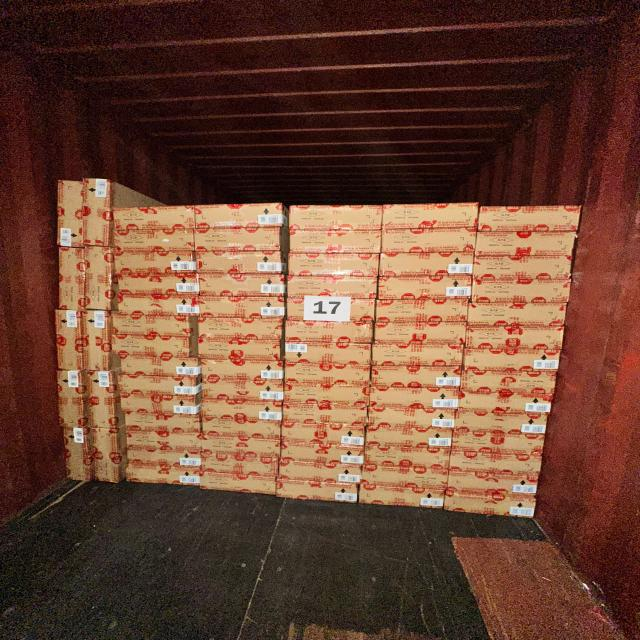Carton: (472, 298, 572, 328), (476, 205, 582, 232), (473, 230, 577, 257), (470, 278, 576, 304), (443, 490, 538, 519), (471, 255, 573, 281), (380, 204, 480, 230), (462, 347, 562, 373), (283, 340, 375, 368), (284, 296, 376, 324), (463, 326, 566, 351), (379, 228, 478, 254), (378, 251, 473, 278), (451, 429, 546, 456), (459, 368, 557, 394), (448, 450, 542, 477), (376, 296, 469, 323), (288, 228, 384, 254), (192, 202, 284, 229), (287, 252, 378, 279), (378, 275, 472, 301), (286, 274, 380, 300), (446, 470, 540, 496), (362, 464, 449, 492), (194, 225, 283, 252), (284, 319, 376, 345), (454, 410, 549, 435), (358, 483, 445, 510), (194, 250, 284, 276), (287, 205, 384, 229), (457, 391, 554, 415), (197, 294, 286, 320), (197, 272, 286, 298), (284, 382, 370, 408), (112, 205, 197, 231), (199, 397, 284, 423), (82, 177, 113, 248), (196, 316, 284, 341), (283, 361, 371, 386), (373, 322, 468, 345), (112, 228, 196, 254), (276, 459, 363, 484), (370, 343, 464, 366), (366, 406, 456, 430), (282, 402, 368, 427), (280, 440, 366, 465), (55, 179, 86, 248), (370, 365, 463, 388), (114, 272, 199, 297), (200, 357, 285, 382), (200, 378, 285, 403), (280, 422, 365, 447), (82, 370, 118, 429), (363, 446, 451, 470), (201, 416, 282, 442), (108, 313, 192, 338), (369, 387, 460, 410), (275, 478, 358, 503), (364, 427, 454, 450), (196, 337, 282, 361), (199, 452, 278, 478), (198, 470, 277, 496), (200, 434, 282, 459), (55, 246, 87, 310), (84, 246, 115, 312), (113, 250, 197, 274), (116, 293, 200, 317), (119, 392, 198, 417), (117, 373, 199, 397), (124, 462, 202, 487), (110, 334, 191, 358), (118, 354, 199, 378), (55, 308, 85, 372), (54, 369, 86, 428), (124, 410, 201, 434), (81, 309, 110, 372), (61, 427, 94, 482), (88, 427, 120, 483), (125, 448, 202, 471), (124, 430, 203, 452)
